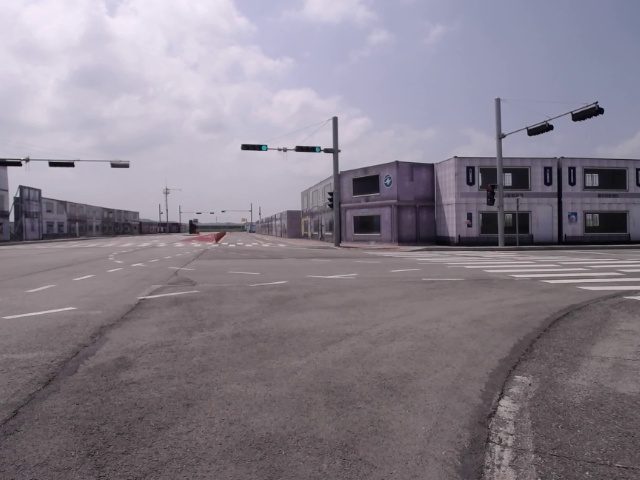straight_green_4: (242, 143, 268, 152), (296, 144, 320, 153)
